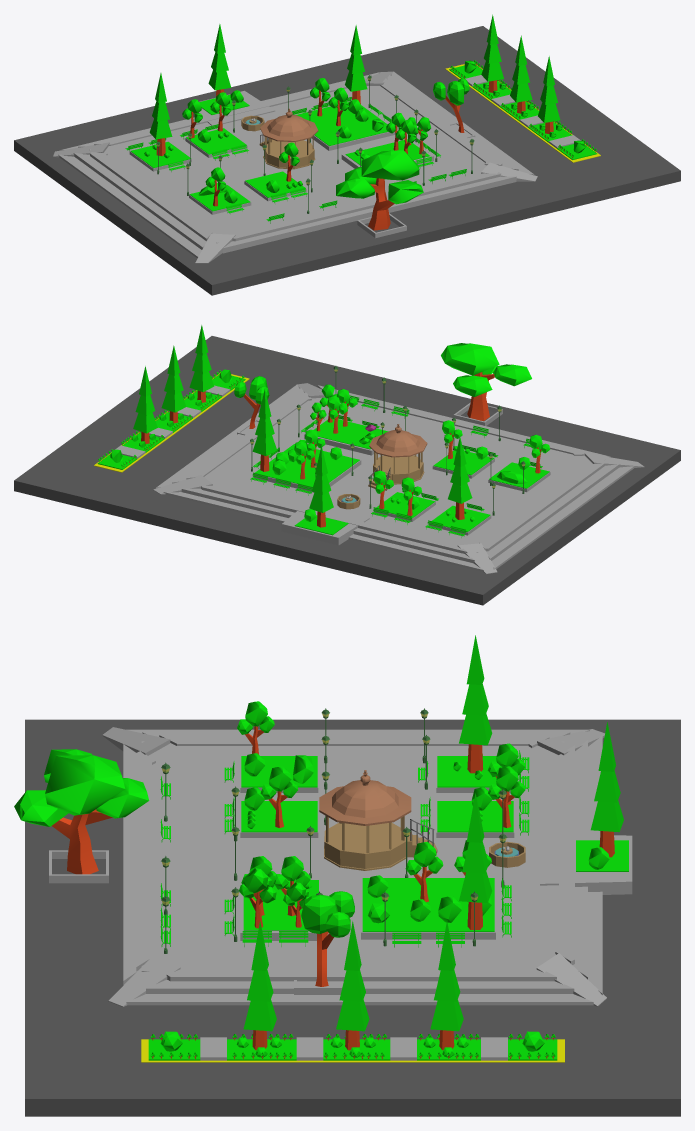
File: Plaza.fbx
3 renders of one model, top to bottom at view 1: azimuth 30°, elevation 25°; view 2: azimuth 150°, elevation 25°; view 3: azimuth 270°, elevation 25°, orthographic. The views are drawn at different scales.
Parts seen in each view (by area): view 1: polySurface264; view 2: polySurface264; view 3: polySurface264.
Part boxes in pixels (<box>): polySurface264: <box>14,14,680,295</box>; polySurface264: <box>14,325,680,605</box>; polySurface264: <box>14,635,680,1116</box>.
Bounding box in the file's own units: 46.47 × 9.8 × 34.54.
